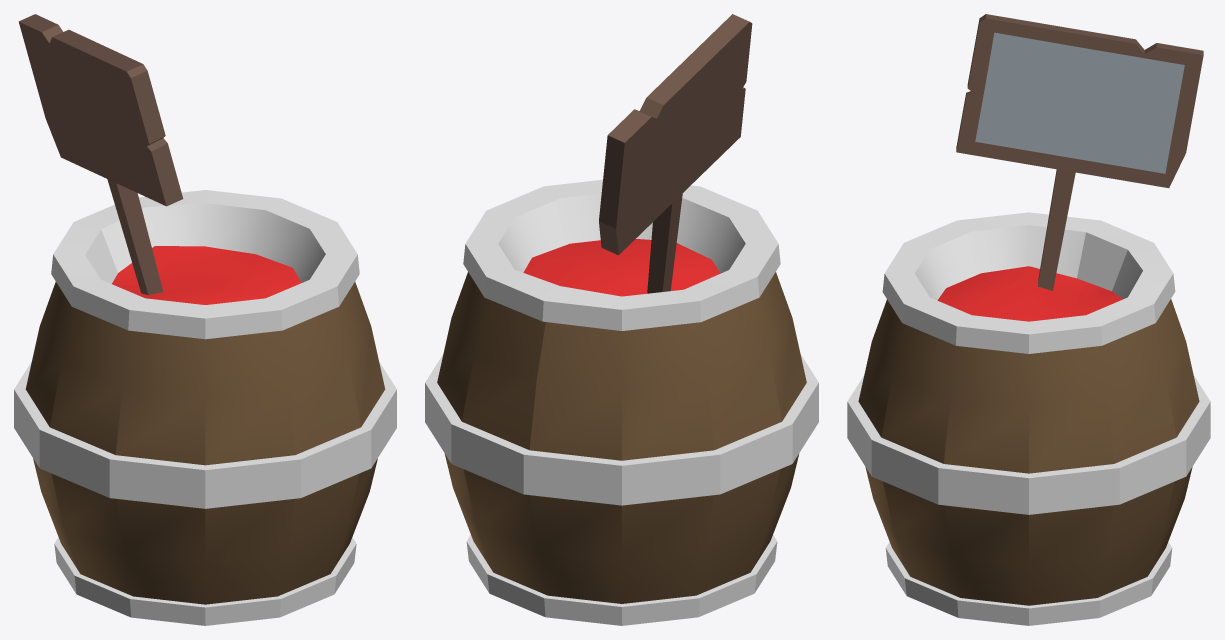
File: 3D_foodstation_barell.fbx
The picture shows the model from 3 angles, left to right: view 1: azimuth 30°, elevation 25°; view 2: azimuth 150°, elevation 25°; view 3: azimuth 270°, elevation 25°; orthographic projection. The views are drawn at different scales.
Parts seen in each view (by area): view 1: 3D_foodstation_barell; view 2: 3D_foodstation_barell; view 3: 3D_foodstation_barell.
Part boxes in pixels (x1=…): 3D_foodstation_barell: x1=14, y1=14, x2=396, y2=625; 3D_foodstation_barell: x1=425, y1=14, x2=818, y2=625; 3D_foodstation_barell: x1=847, y1=14, x2=1210, y2=625.
Bounding box in the file's own units: 0.9668 × 1.49 × 0.9668.
